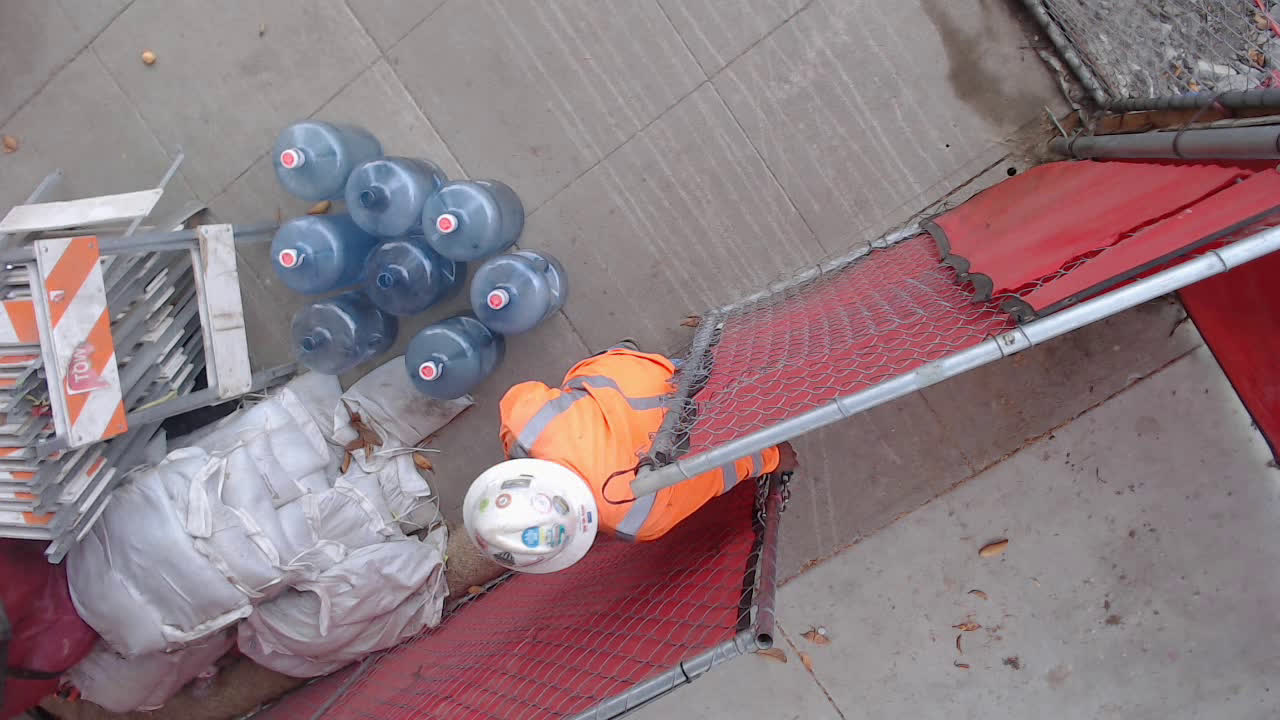hardhat: (466, 456, 601, 576)
safetyvest: (502, 354, 781, 561)
